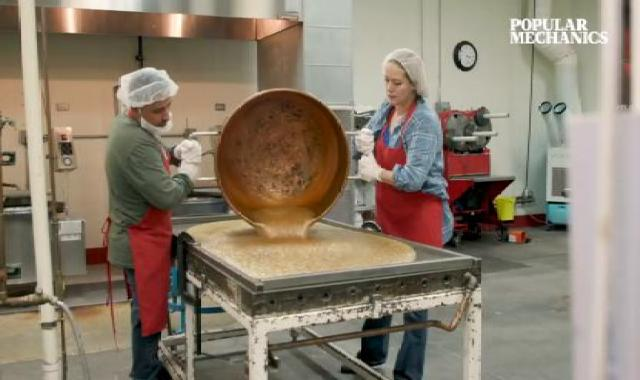hairnet: (111, 65, 184, 110), (381, 50, 431, 101)
